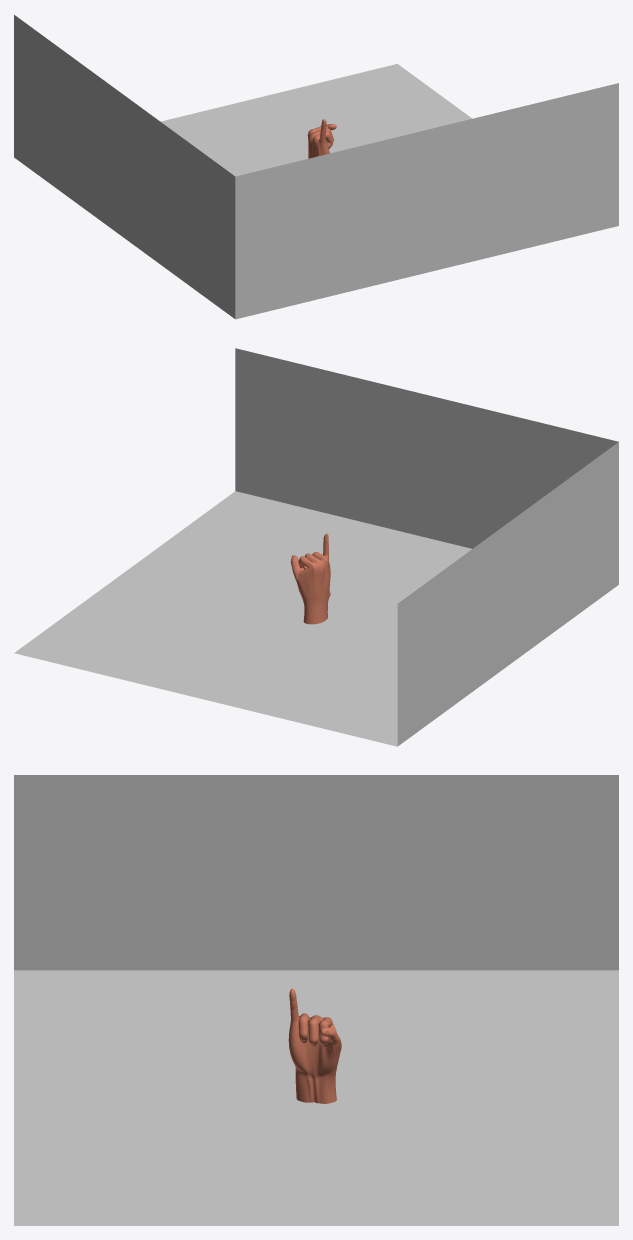
3 renders of one model, top to bottom at view 1: azimuth 30°, elevation 25°; view 2: azimuth 150°, elevation 25°; view 3: azimuth 270°, elevation 25°, orthographic. The views are drawn at different scales.
Visible parts, largest first — view 1: Plane_Plane.006, Plane.004; view 2: Plane_Plane.006, Plane.004; view 3: Plane_Plane.006, Plane.004.
Part boxes in pixels (x1,y1,x2,y2): Plane_Plane.006: (14, 15, 618, 319); Plane.004: (307, 119, 336, 158); Plane_Plane.006: (14, 348, 618, 746); Plane.004: (290, 533, 330, 624); Plane_Plane.006: (14, 775, 618, 1225); Plane.004: (288, 988, 341, 1103).
Size of the model in its own units: 18.5 by 7.45 by 18.5.
